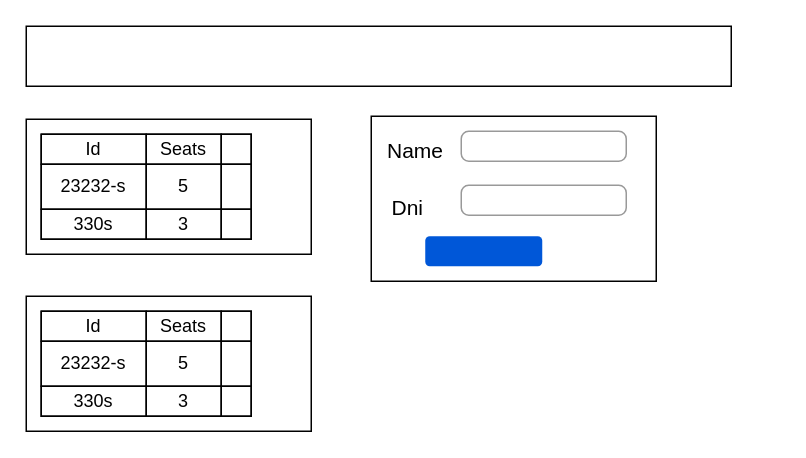
The diagram is 806 pixels wide and 458 high, and some of its shapes have lost their labels. Here are the shapes that lost their labels. From the top down, the centre of each, then its label:
At point 378,55: "HEADER".
At point 483,251: "Add User".
